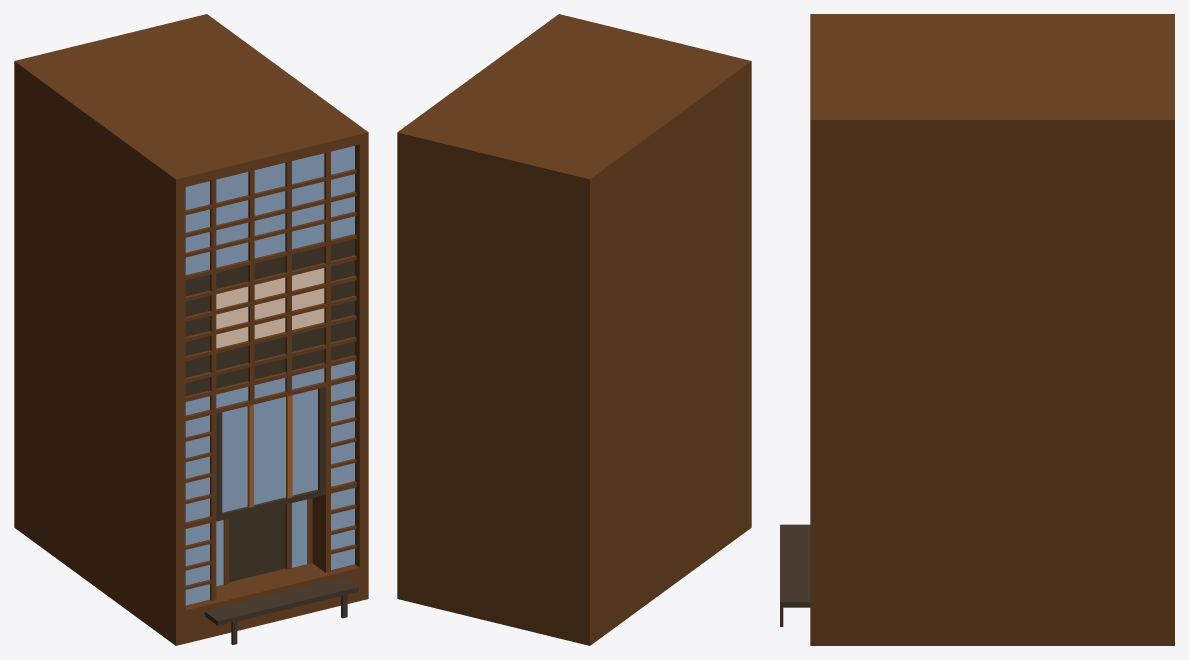
The model's file is modernGrachthuis2textured.fbx.
The picture shows the model from 3 angles, left to right: view 1: azimuth 30°, elevation 25°; view 2: azimuth 150°, elevation 25°; view 3: azimuth 270°, elevation 25°; orthographic projection. The views are drawn at different scales.
Parts seen in each view (by area): view 1: Plane, Plane.001, Plane.002, Plane.003, Plane.004; view 2: Plane; view 3: Plane, Plane.004.
Part boxes in pixels (x1,y1,x2,y2): Plane: (14, 14, 368, 645); Plane.001: (185, 145, 356, 606); Plane.002: (216, 387, 325, 521); Plane.003: (216, 498, 312, 586); Plane.004: (204, 577, 358, 644); Plane: (397, 14, 751, 645); Plane: (810, 14, 1174, 645); Plane.004: (780, 524, 810, 626).
Size of the model in its own units: 101 by 235 by 160.
